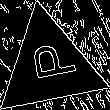P_W: (21, 43, 77, 89)
